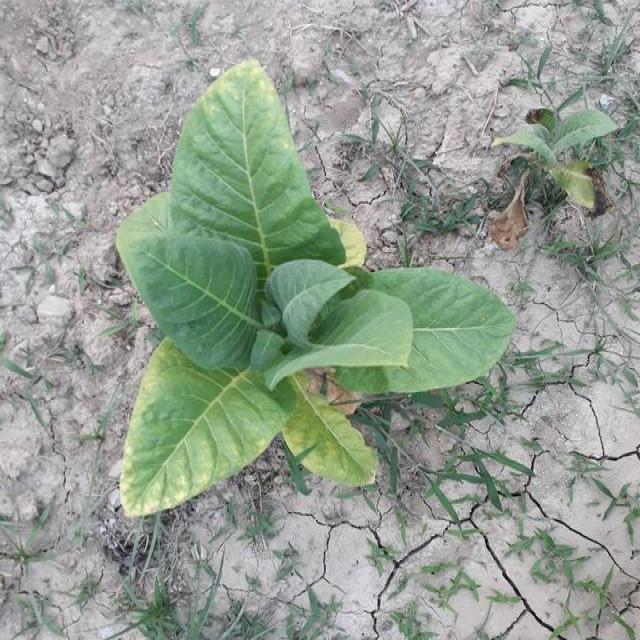crop: (102, 72, 512, 518), (510, 104, 612, 214)
